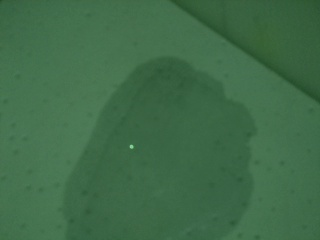Water_detected: (86, 89, 219, 240)
